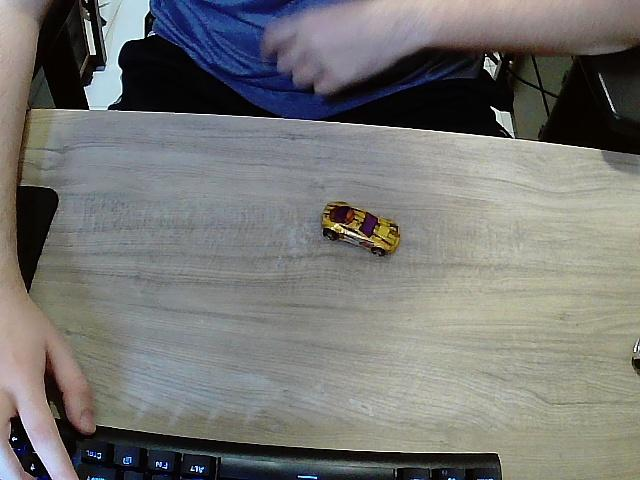Carro: (320, 202, 401, 258)
